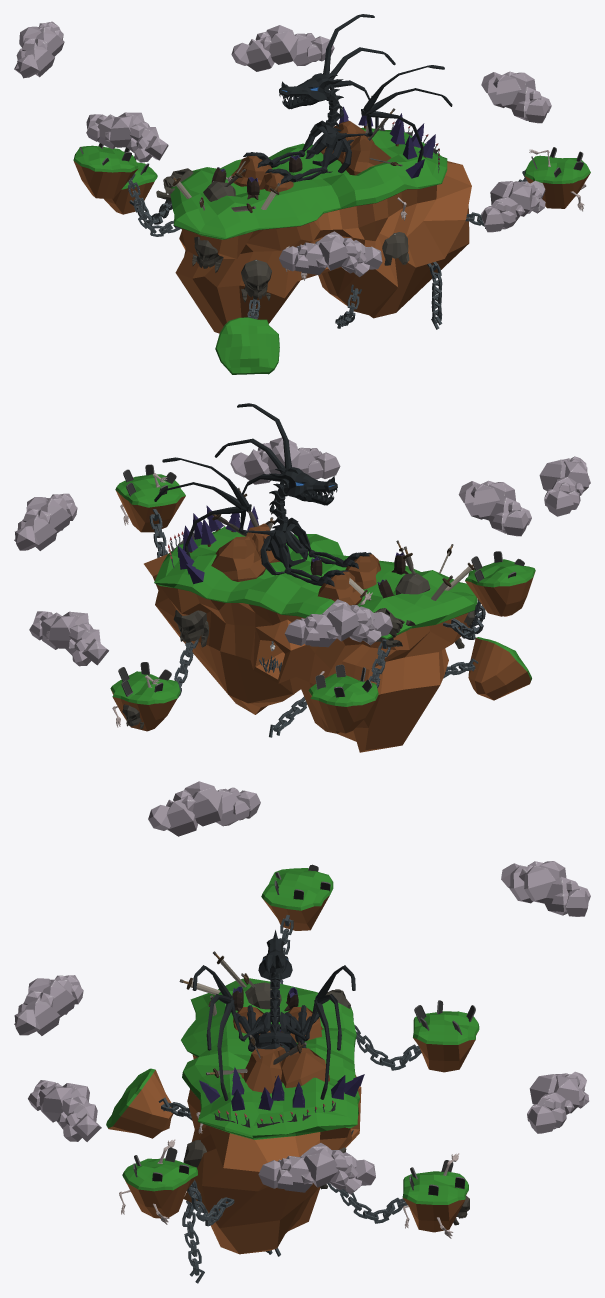
Rendered from Dragon_001_FullScene_001_All.fbx.
3 views of the same model, one above another, from view 1: azimuth 30°, elevation 25°; view 2: azimuth 150°, elevation 25°; view 3: azimuth 270°, elevation 25° (orthographic). The views are drawn at different scales.
Visible parts, largest first — view 1: FloatingIsland_003_Island_001_Drivethru, FloatingIsland_007_Island_002_CandyCane_005, Clouds_001_Sky_001_Fluffy5, Clouds_001_Sky_001_Fluffy2, Clouds_001_Sky_001_Fluffy4, FloatingIsland_007_Island_002_CandyCane_006, Clouds_001_Sky_001_Fluffy1, Clouds_001_Sky_001_Fluffy, FloatingIsland_007_Island_002_CandyCane_004, Clouds_001_Sky_001_Fluffy3, Rock_003_Enviroment_001_Blocky, FloatingIsland_007_Island_002_CandyCane_007 (+8 smaller); view 2: FloatingIsland_003_Island_001_Drivethru, Clouds_001_Sky_001_Fluffy3, FloatingIsland_007_Island_002_CandyCane_005, Clouds_001_Sky_001_Fluffy2, FloatingIsland_007_Island_002_CandyCane_006, Clouds_001_Sky_001_Fluffy, FloatingIsland_007_Island_002_CandyCane_007, Clouds_001_Sky_001_Fluffy5, FloatingIsland_007_Island_002_CandyCane_004, Clouds_001_Sky_001_Fluffy1, FloatingIsland_007_Island_002_CandyCane_008, Clouds_001_Sky_001_Fluffy4 (+13 smaller); view 3: FloatingIsland_003_Island_001_Drivethru, Clouds_001_Sky_001_Fluffy1, Clouds_001_Sky_001_Fluffy4, Clouds_001_Sky_001_Fluffy3, FloatingIsland_007_Island_002_CandyCane_006, FloatingIsland_007_Island_002_CandyCane_007, FloatingIsland_007_Island_002_CandyCane_004, FloatingIsland_007_Island_002_CandyCane_005, FloatingIsland_007_Island_002_CandyCane_008, Clouds_001_Sky_001_Fluffy, Clouds_001_Sky_001_Fluffy5, Clouds_001_Sky_001_Fluffy2 (+7 smaller).
Part boxes in pixels (x1,y1,x2,y2): FloatingIsland_003_Island_001_Drivethru: (170, 127, 471, 333); FloatingIsland_007_Island_002_CandyCane_005: (215, 317, 279, 374); Clouds_001_Sky_001_Fluffy5: (279, 231, 382, 276); Clouds_001_Sky_001_Fluffy2: (231, 25, 334, 71); Clouds_001_Sky_001_Fluffy4: (86, 112, 168, 162); FloatingIsland_007_Island_002_CandyCane_006: (73, 145, 138, 198); Clouds_001_Sky_001_Fluffy1: (481, 71, 551, 123); Clouds_001_Sky_001_Fluffy: (481, 180, 545, 232); FloatingIsland_007_Island_002_CandyCane_004: (524, 155, 590, 208); Clouds_001_Sky_001_Fluffy3: (14, 21, 64, 78); Rock_003_Enviroment_001_Blocky: (337, 131, 390, 175); FloatingIsland_007_Island_002_CandyCane_007: (104, 162, 157, 214); FloatingIsland_003_Island_001_Drivethru: (144, 526, 477, 752); Clouds_001_Sky_001_Fluffy3: (284, 599, 392, 647); FloatingIsland_007_Island_002_CandyCane_005: (468, 637, 531, 700); Clouds_001_Sky_001_Fluffy2: (29, 611, 108, 666); FloatingIsland_007_Island_002_CandyCane_006: (465, 559, 535, 616); Clouds_001_Sky_001_Fluffy: (230, 437, 340, 484); FloatingIsland_007_Island_002_CandyCane_007: (308, 673, 378, 733); Clouds_001_Sky_001_Fluffy5: (458, 480, 531, 536); FloatingIsland_007_Island_002_CandyCane_004: (115, 474, 185, 532); Clouds_001_Sky_001_Fluffy1: (14, 493, 77, 550); FloatingIsland_007_Island_002_CandyCane_008: (110, 671, 180, 731); Clouds_001_Sky_001_Fluffy4: (539, 456, 590, 516); FloatingIsland_003_Island_001_Drivethru: (181, 978, 361, 1254); Clouds_001_Sky_001_Fluffy1: (258, 1143, 375, 1194); Clouds_001_Sky_001_Fluffy4: (148, 781, 260, 836); Clouds_001_Sky_001_Fluffy3: (501, 861, 590, 916); FloatingIsland_007_Island_002_CandyCane_006: (261, 868, 333, 930); FloatingIsland_007_Island_002_CandyCane_007: (413, 1011, 479, 1072); FloatingIsland_007_Island_002_CandyCane_004: (122, 1158, 197, 1218); FloatingIsland_007_Island_002_CandyCane_005: (106, 1068, 173, 1138); FloatingIsland_007_Island_002_CandyCane_008: (402, 1171, 468, 1232); Clouds_001_Sky_001_Fluffy: (28, 1080, 101, 1141); Clouds_001_Sky_001_Fluffy5: (14, 975, 83, 1035); Clouds_001_Sky_001_Fluffy2: (527, 1071, 589, 1133).
Bounding box in the file's own units: 45009 × 26118 × 40846.
